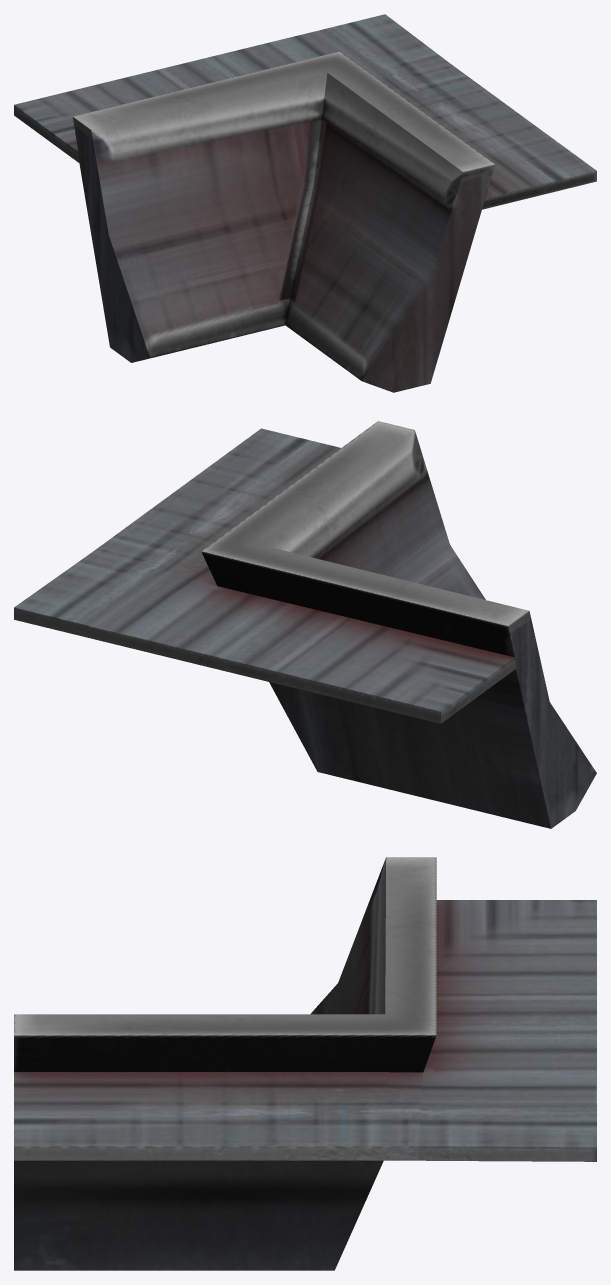
Rendered from 8c6c72c6-41d2-42a1-9808-eed78c426605.glb.
3 views of the same model, one above another, from view 1: azimuth 30°, elevation 25°; view 2: azimuth 150°, elevation 25°; view 3: azimuth 270°, elevation 25° (orthographic). The views are drawn at different scales.
Visible parts, largest first — view 1: Roof inner Corner Module; view 2: Roof inner Corner Module; view 3: Roof inner Corner Module.
Part boxes in pixels (left/top/right/bottom): Roof inner Corner Module: left=14, top=14, right=596, bottom=392; Roof inner Corner Module: left=14, top=421, right=596, bottom=828; Roof inner Corner Module: left=14, top=857, right=596, bottom=1270.
Size of what is drawn, in the model's own units: 4.11 by 2.15 by 4.09.
Materials: 1 (1 with a texture image).
